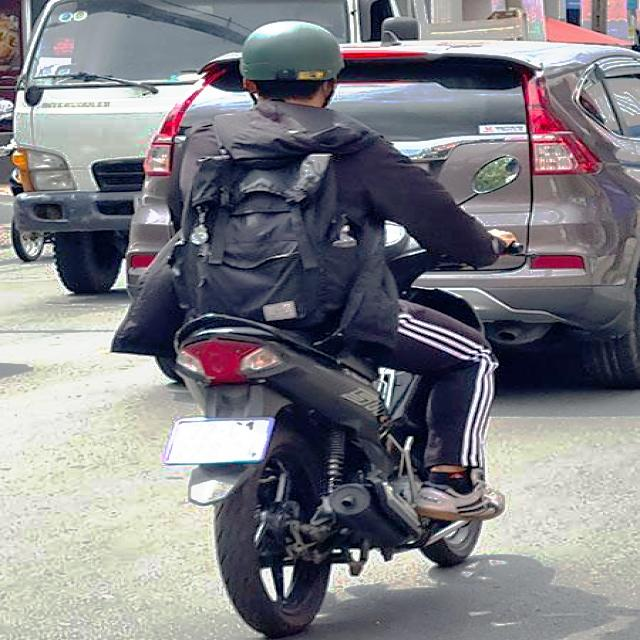license_plate: (167, 417, 275, 464)
